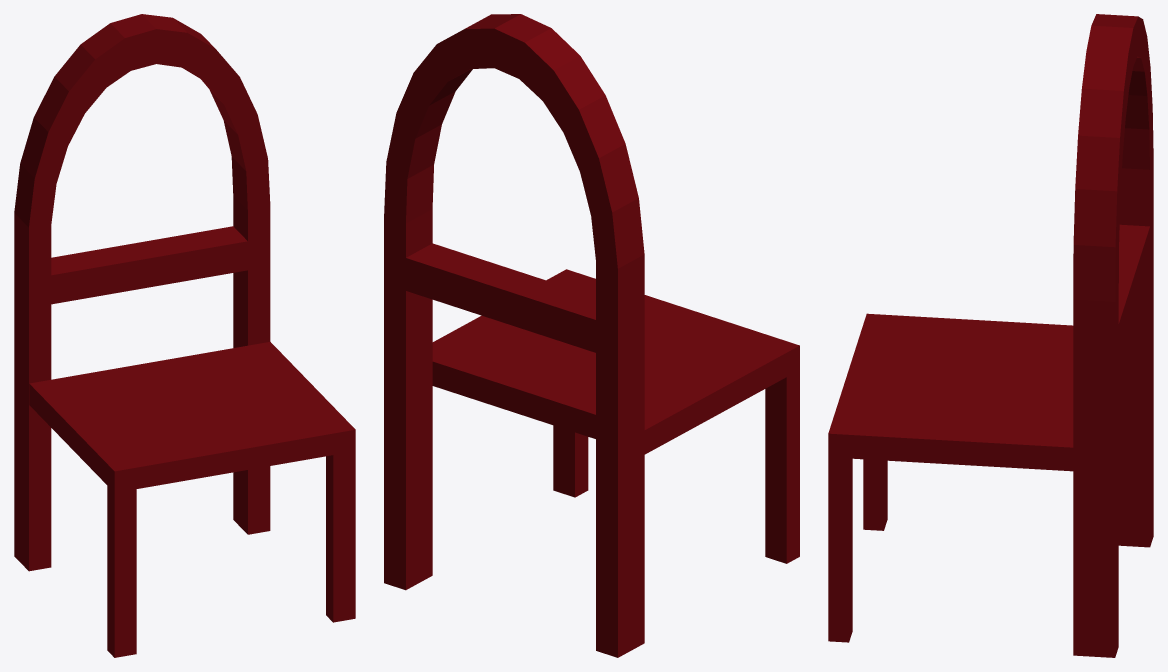
Rendered from chaIr.fbx.
3 renders of one model, left to right at view 1: azimuth 30°, elevation 25°; view 2: azimuth 150°, elevation 25°; view 3: azimuth 270°, elevation 25°, orthographic. The views are drawn at different scales.
Parts seen in each view (by area): view 1: Cube.005; view 2: Cube.005; view 3: Cube.005.
Part boxes in pixels (left/top/right/bottom): Cube.005: left=14, top=14, right=355, bottom=657; Cube.005: left=384, top=14, right=799, bottom=657; Cube.005: left=828, top=14, right=1153, bottom=657.
Bounding box in the file's own units: 94.44 × 185 × 95.24.
